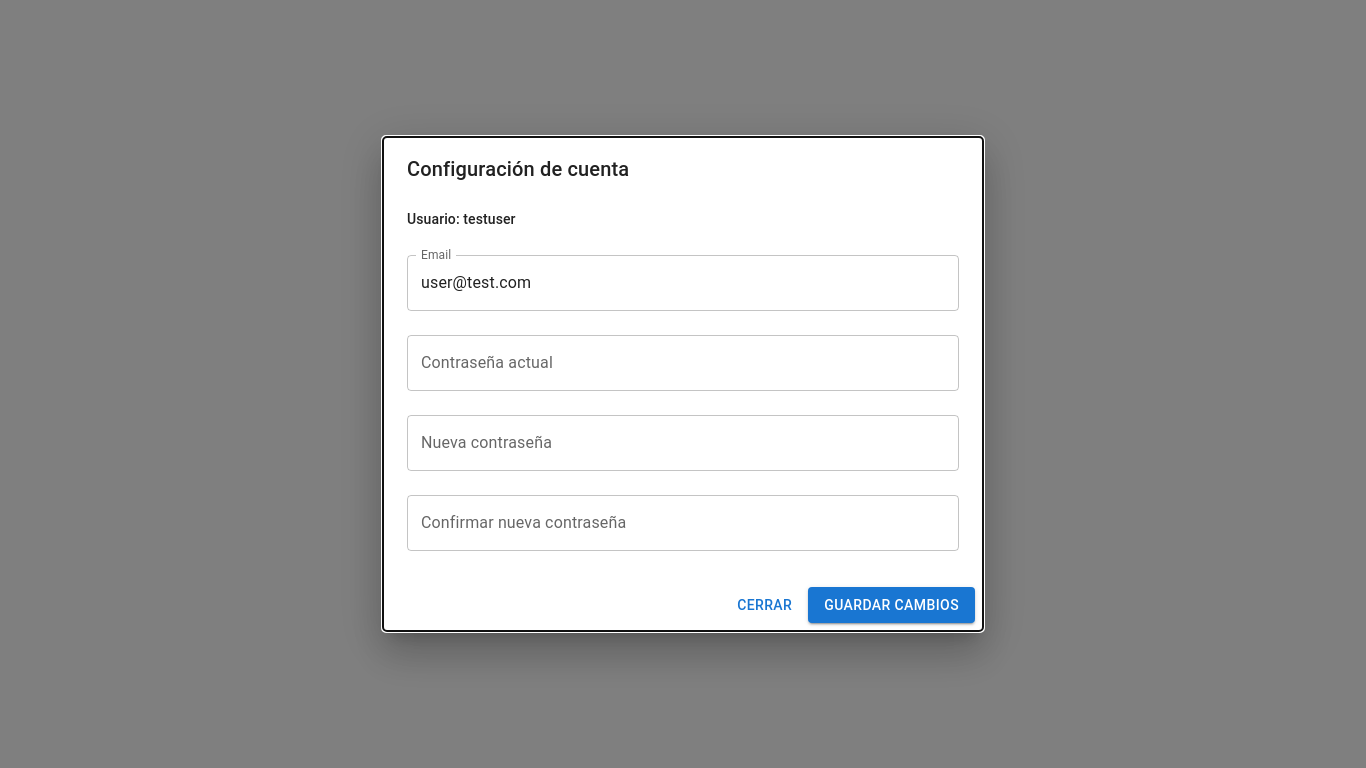
Scenario: AccountSettingsDialog › carga el email y permite actualizarlo
Replace the text in the field labelled "Email" with "nuevo@test.com" at (683, 283), box [407, 255, 959, 311]
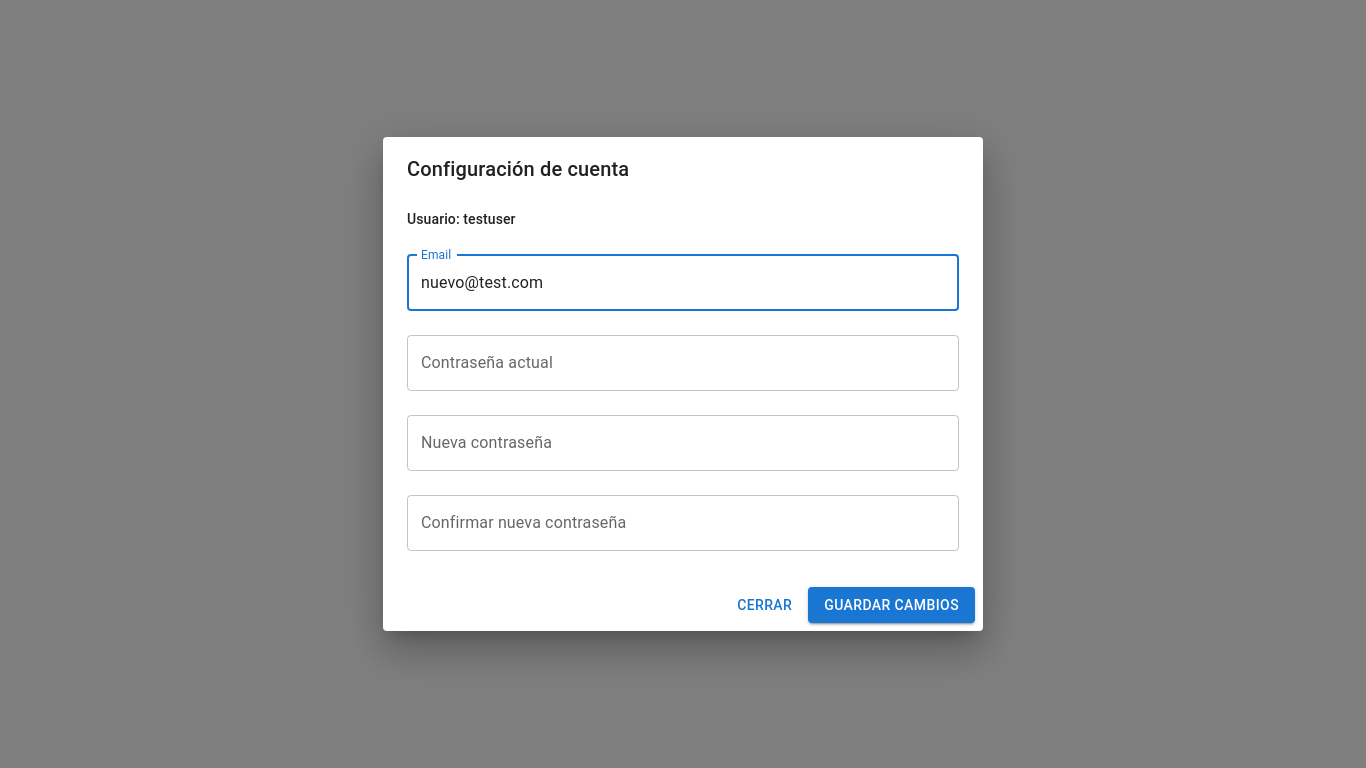
Type "currentpass" into the password field labelled "Contraseña actual".
click(683, 363); type("currentpass")  # box [407, 335, 959, 391]
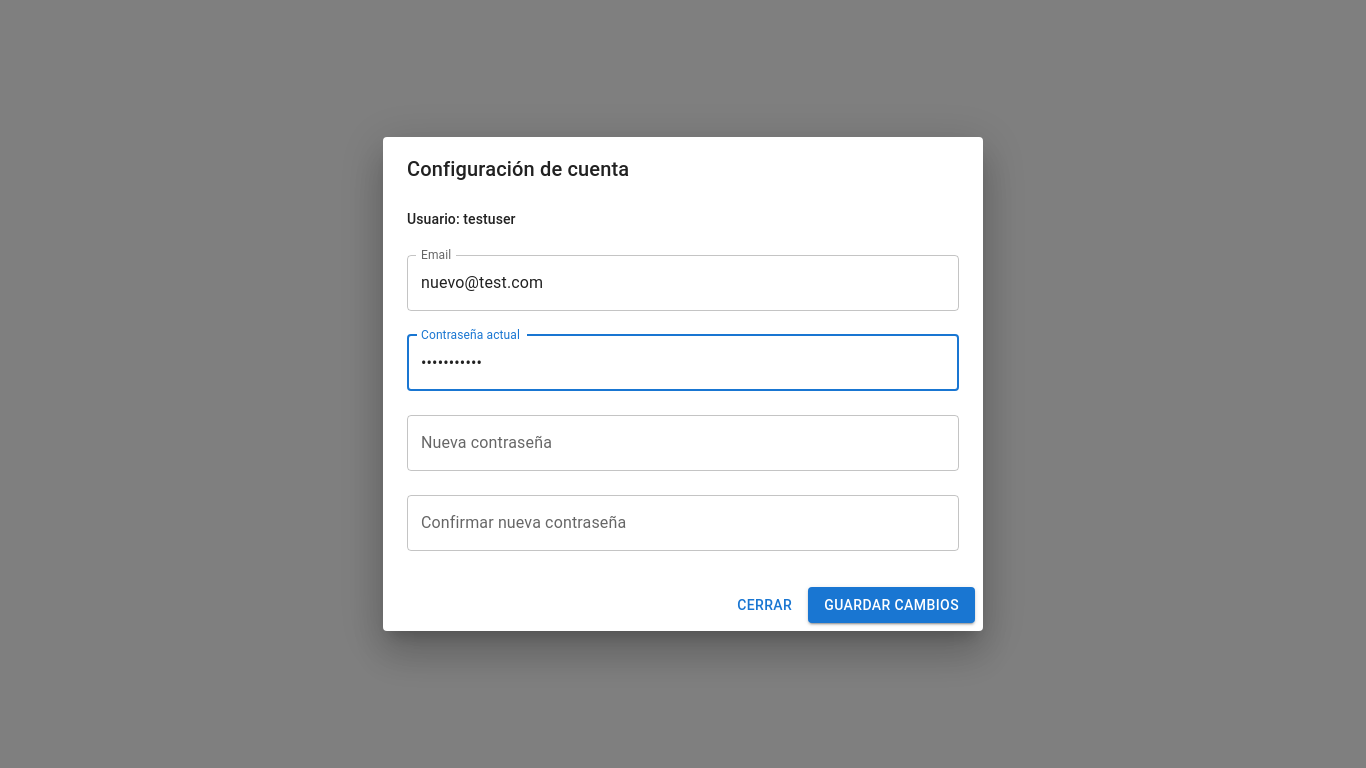
Click the button "Guardar cambios".
click(892, 605)  # box [808, 587, 975, 623]
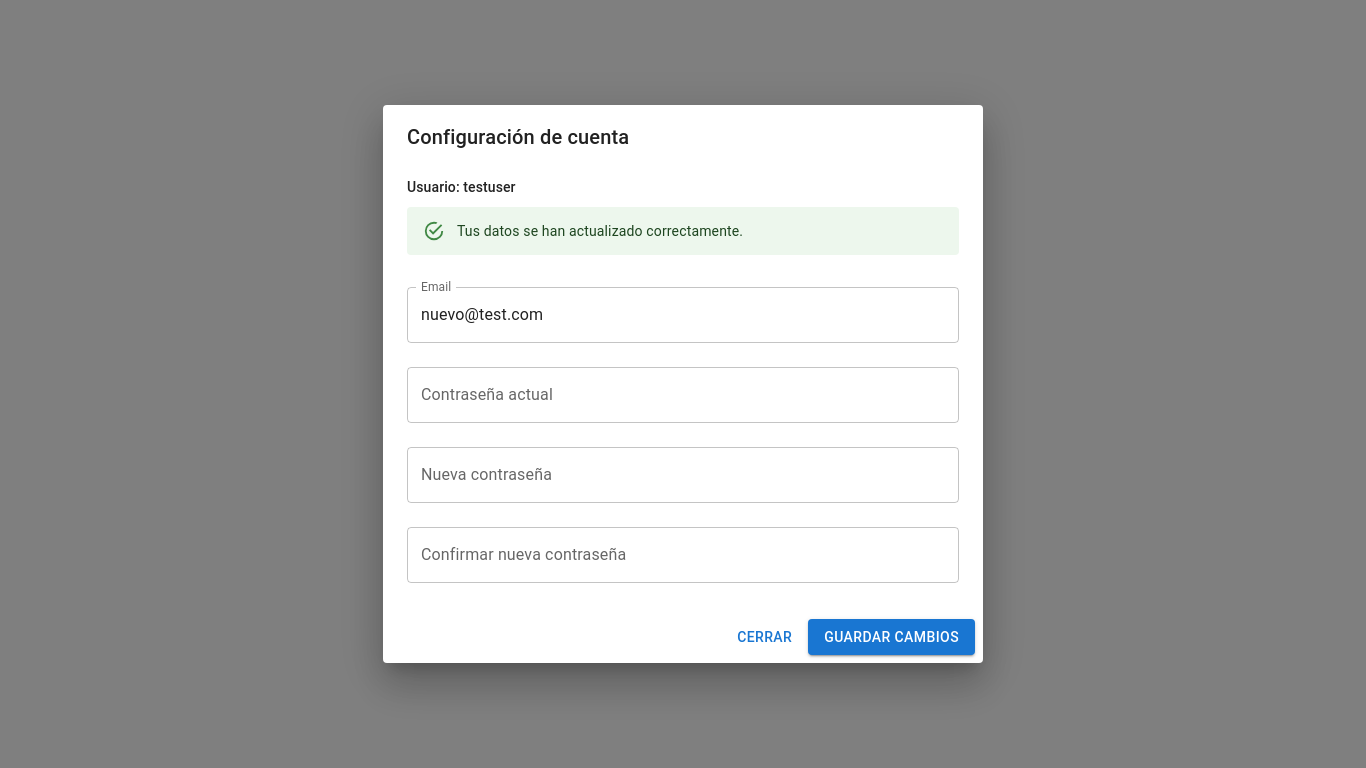
Expected: the text "Tus datos se han actualizado correctamente." is shown, [457, 223, 743, 239]
